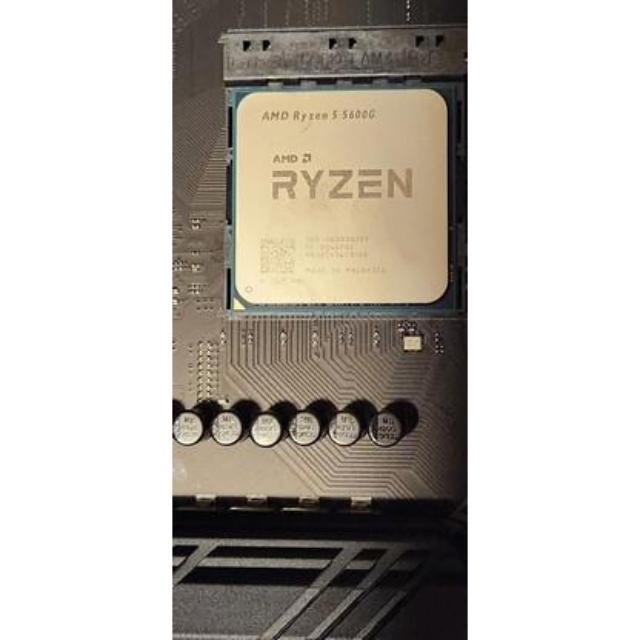CPU: (227, 89, 456, 311)
